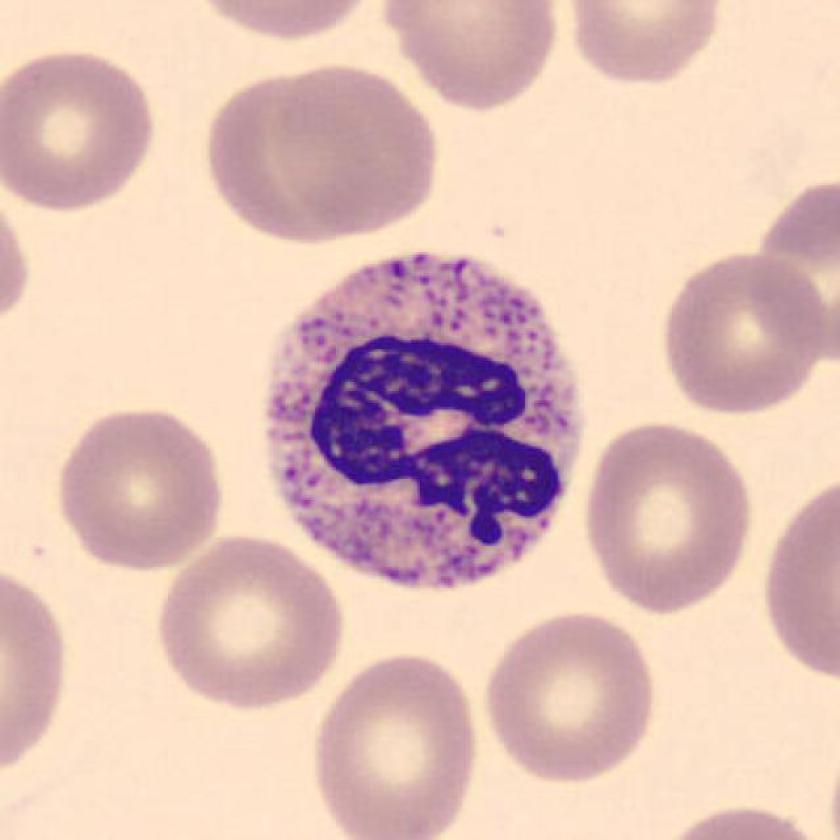neutrophil: (262, 254, 581, 592)
